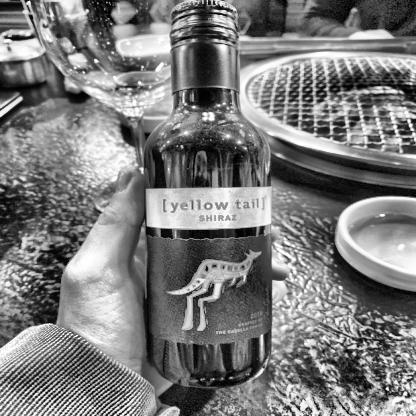yellowtail: (144, 185, 275, 341)
